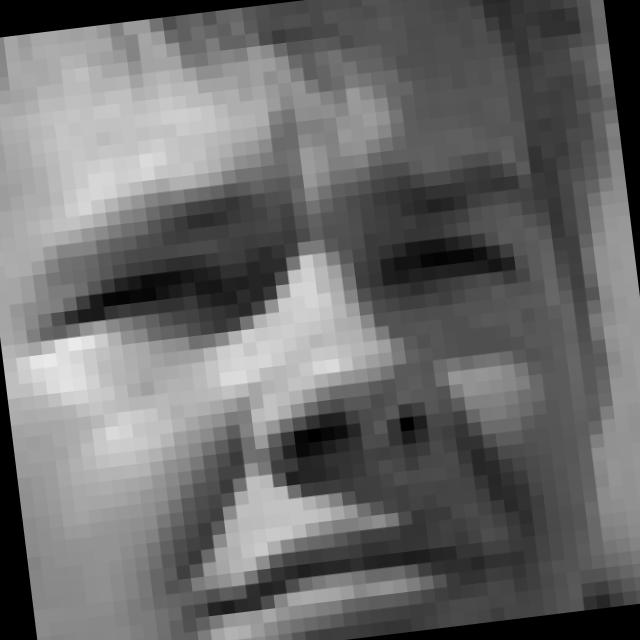sad: (0, 71, 585, 640)
